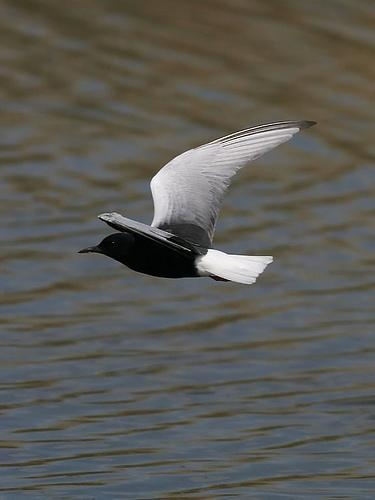bird: (73, 120, 318, 288)
